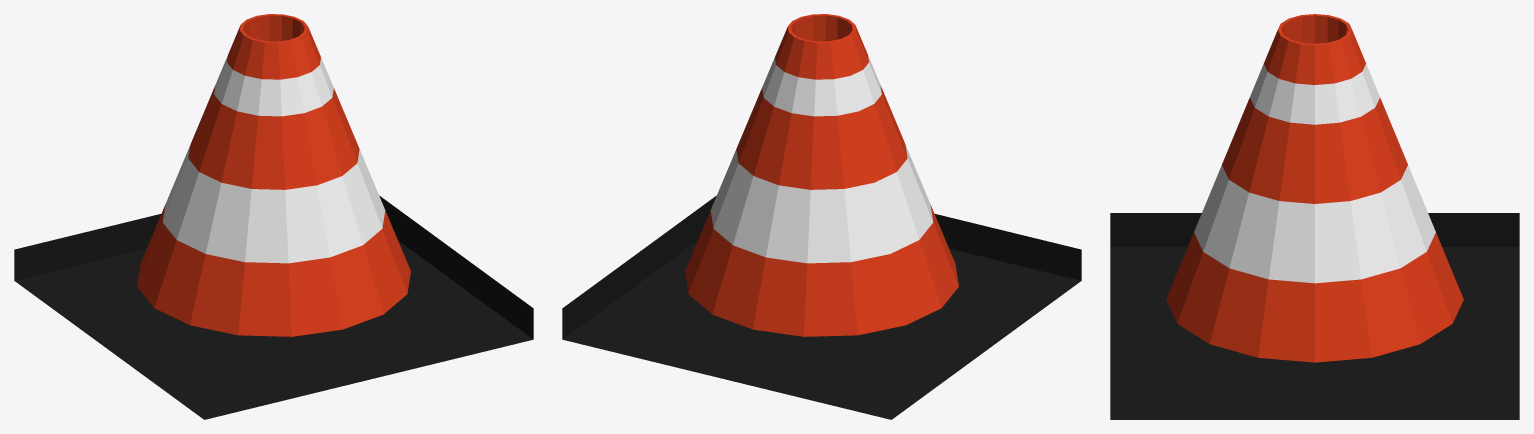
Rendered from cono.glb.
3 views of the same model, side by side, from view 1: azimuth 30°, elevation 25°; view 2: azimuth 150°, elevation 25°; view 3: azimuth 270°, elevation 25° (orthographic). The views are drawn at different scales.
Visible parts, largest first — view 1: Cone; view 2: Cone; view 3: Cone.
Part boxes in pixels (x1,y1,x2,y2): Cone: [14, 14, 533, 419]; Cone: [562, 14, 1081, 419]; Cone: [1110, 14, 1519, 419].
Bounding box in the file's own units: 1.1 × 0.9 × 1.1.
